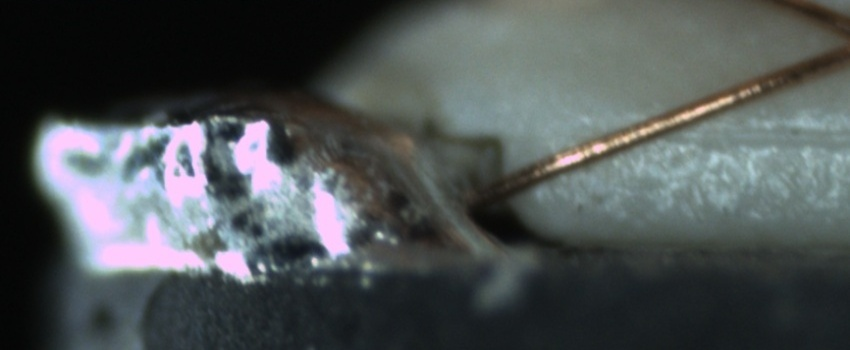DL: (612, 98, 848, 164)
